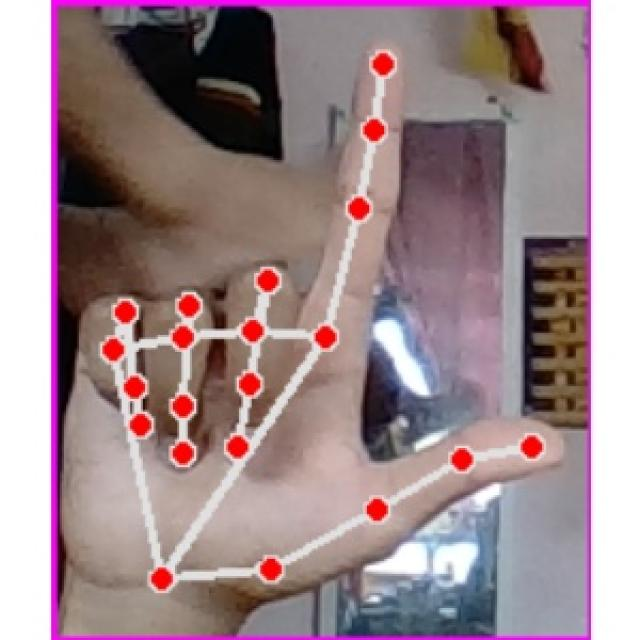L: (69, 25, 576, 611)
